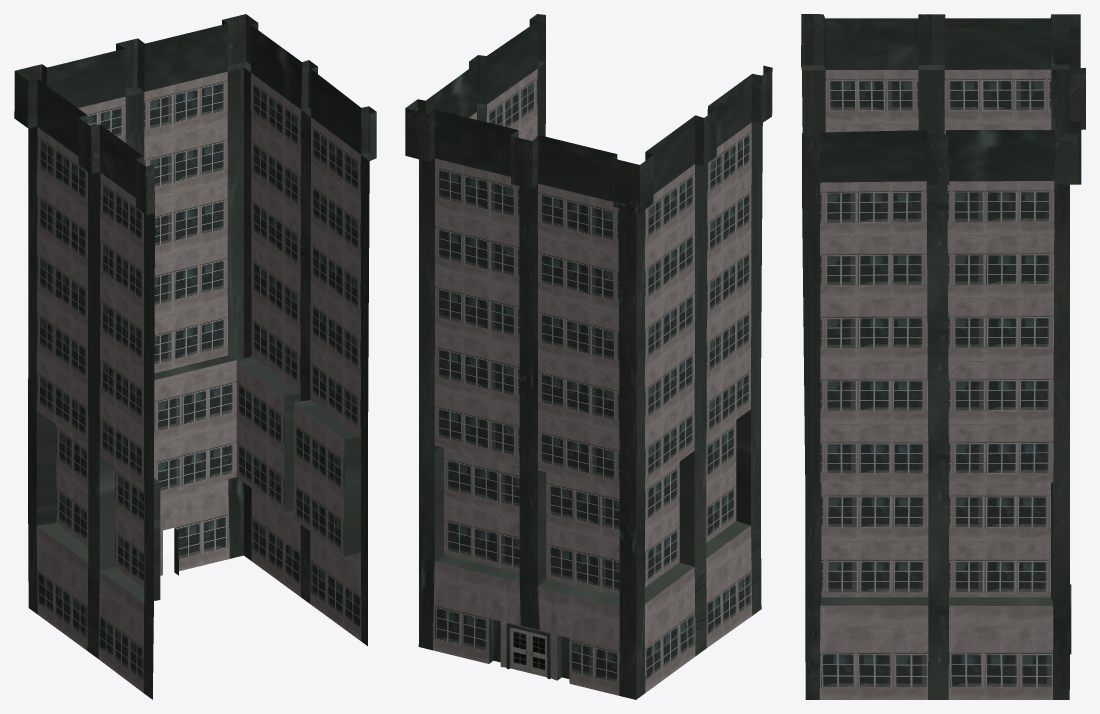
File: Background_Building_7.fbx
The picture shows the model from 3 angles, left to right: view 1: azimuth 30°, elevation 25°; view 2: azimuth 150°, elevation 25°; view 3: azimuth 270°, elevation 25°; orthographic projection. The views are drawn at different scales.
Parts seen in each view (by area): view 1: Background_Building_7; view 2: Background_Building_7; view 3: Background_Building_7.
Boxes of the visible parts, x1,y1,x2,y2 form: Background_Building_7: [14, 14, 376, 699]; Background_Building_7: [405, 14, 772, 699]; Background_Building_7: [801, 14, 1085, 699].
Size of the model in its own units: 705 by 1559 by 705.
